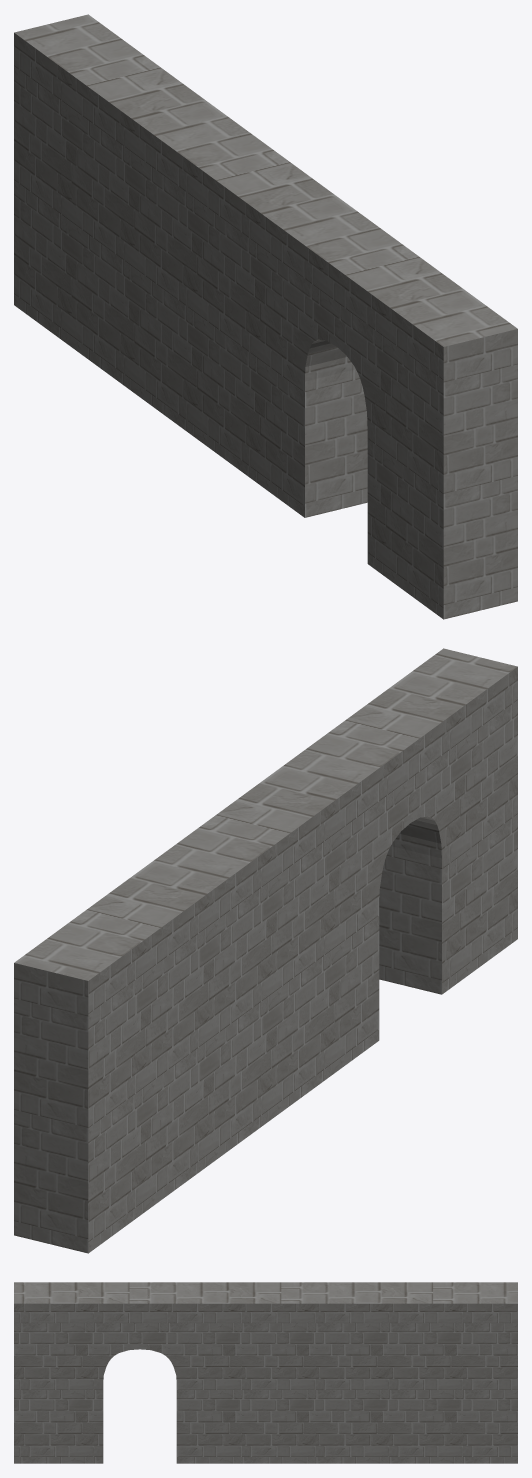
File: MuraillePorte.fbx
3 renders of one model, top to bottom at view 1: azimuth 30°, elevation 25°; view 2: azimuth 150°, elevation 25°; view 3: azimuth 270°, elevation 25°, orthographic. The views are drawn at different scales.
Parts seen in each view (by area): view 1: Mur3; view 2: Mur3; view 3: Mur3.
Part boxes in pixels (bbox=[...]): Mur3: bbox=[14, 14, 517, 619]; Mur3: bbox=[14, 648, 517, 1253]; Mur3: bbox=[14, 1282, 517, 1463].
Size of the model in its own units: 200 by 700 by 2000.
